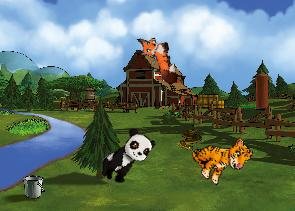fox: (133, 31, 179, 89)
panda: (95, 124, 158, 190)
tiger: (186, 122, 256, 191)
